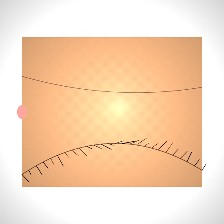corneal_ulcer: (87, 90, 150, 140)
